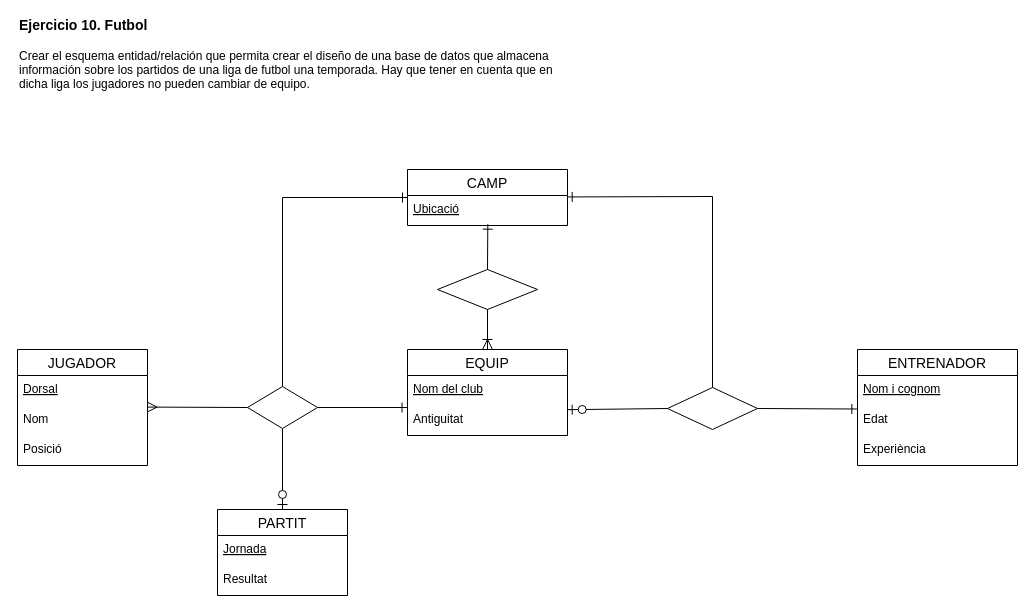
Image size: 1035x615. Some labels were removed from this diagram. Each missing label, with the centre of its shape:
entrenar: (x=712, y=408)
juga: (x=282, y=407)
propietat: (x=487, y=289)
